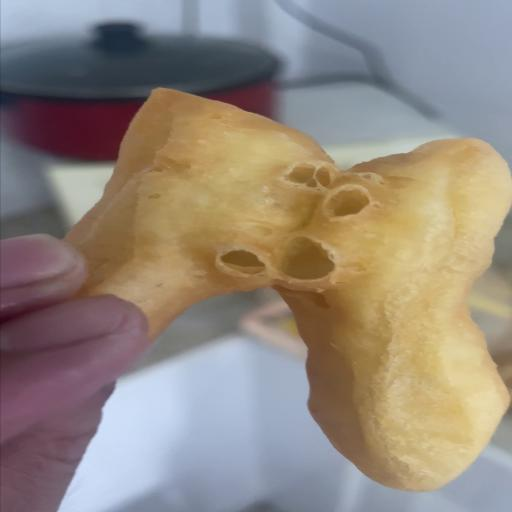street_golden_defect: (65, 108, 509, 489)
